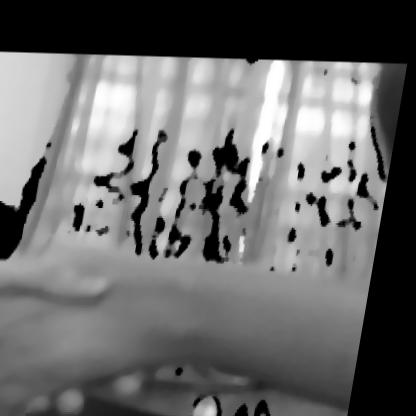handshake: (0, 222, 384, 415)
